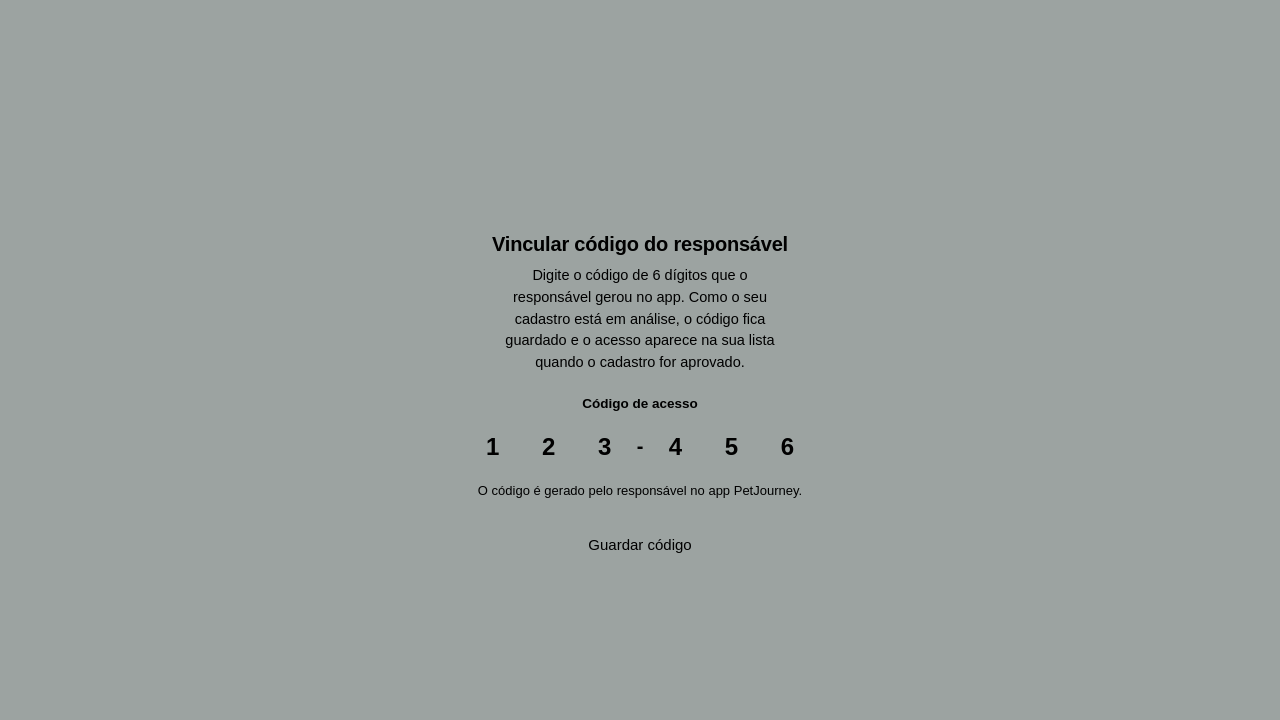
Test: 429 › guardar código: limite por origem pede alguns minutos e segura o botão
Click the button "Guardar código": (640,545) x1=452 y1=522 x2=828 y2=568
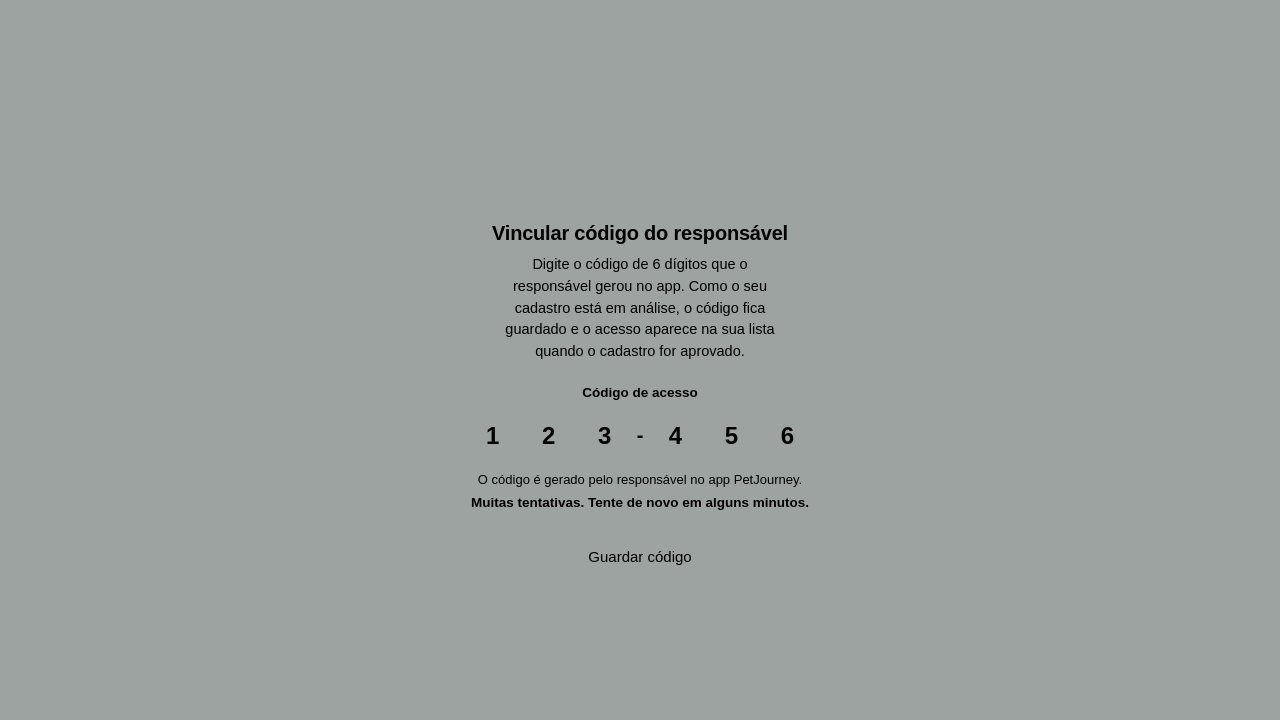
Now the message "Muitas tentativas. Tente de novo em alguns minutos." is shown, box x1=452 y1=494 x2=828 y2=509
Now the button "Guardar código" is disabled, box x1=452 y1=533 x2=828 y2=579
